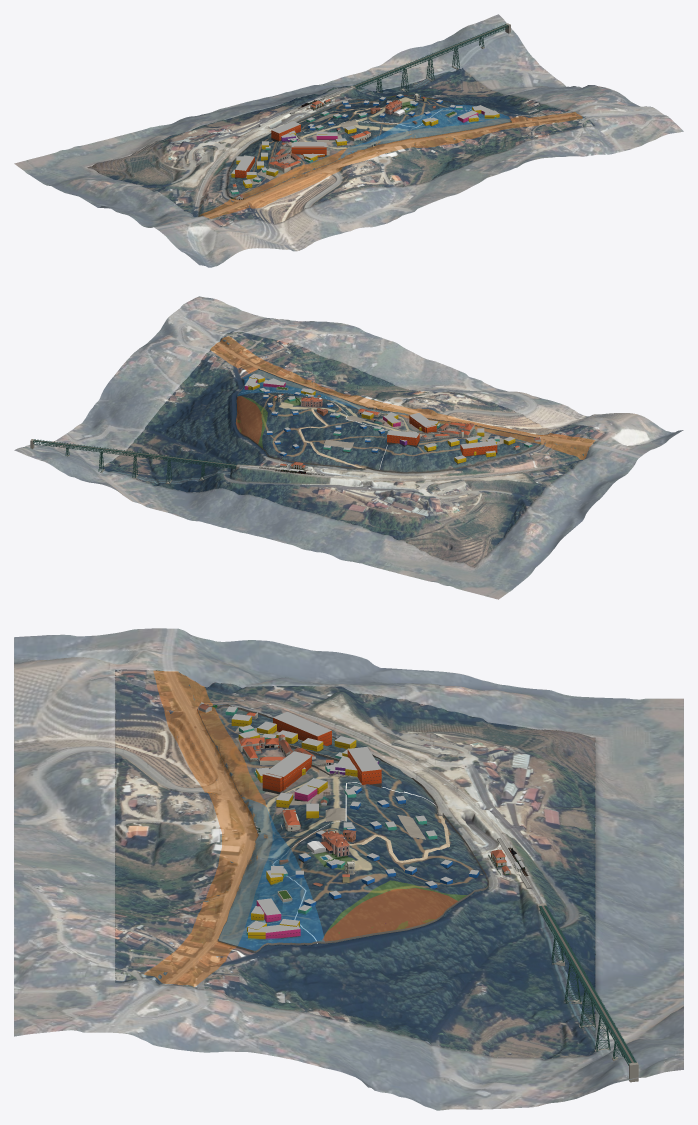
Rendered from vila.glb.
The picture shows the model from 3 angles, top to bottom: view 1: azimuth 30°, elevation 25°; view 2: azimuth 150°, elevation 25°; view 3: azimuth 270°, elevation 25°; orthographic projection. The views are drawn at different scales.
Visible parts, largest first — view 1: base/envolvente, base/terreno, mancha/servidao-en234, mancha/agua-zona-alargada, base/ponte, base/muro; view 2: base/terreno, base/envolvente, mancha/servidao-en234, base/ponte, mancha/espaco-florestal, mancha/agua-zona-alargada, mancha/ren, base/muro, cenario/hotel/fase3/ala-01; view 3: base/terreno, base/envolvente, mancha/servidao-en234, mancha/agua-zona-alargada, mancha/espaco-florestal, mancha/ren, base/ponte, base/muro, cenario/hotel/fase3/ala-01, cenario/misto/fase3/ala-01, cenario/misto/fase3/ala-02.
Boxes of the visible parts, <box> form: base/envolvente: <box>14,14,683,267</box>; base/terreno: <box>87,68,594,226</box>; mancha/servidao-en234: <box>199,112,582,218</box>; mancha/agua-zona-alargada: <box>338,104,510,159</box>; base/ponte: <box>350,23,510,92</box>; base/muro: <box>226,98,511,199</box>; base/terreno: <box>100,331,606,567</box>; base/envolvente: <box>14,296,683,599</box>; mancha/servidao-en234: <box>210,336,595,459</box>; base/ponte: <box>30,439,239,483</box>; mancha/espaco-florestal: <box>236,396,267,447</box>; mancha/agua-zona-alargada: <box>237,369,408,415</box>; mancha/ren: <box>236,396,262,443</box>; base/muro: <box>235,369,540,473</box>; cenario/hotel/fase3/ala-01: <box>460,440,497,456</box>; base/terreno: <box>115,669,595,1059</box>; base/envolvente: <box>14,628,683,1110</box>; mancha/servidao-en234: <box>144,670,272,986</box>; mancha/agua-zona-alargada: <box>219,797,324,950</box>; mancha/espaco-florestal: <box>321,880,466,940</box>; mancha/ren: <box>322,888,457,941</box>; base/ponte: <box>537,903,638,1082</box>; base/muro: <box>198,704,488,952</box>; cenario/hotel/fase3/ala-01: <box>273,711,331,745</box>; cenario/misto/fase3/ala-01: <box>347,747,381,787</box>; cenario/misto/fase3/ala-02: <box>266,752,311,790</box>.
Bounding box in the file's own units: 800 × 109 × 530.
Materials: 71 (2 with a texture image).
